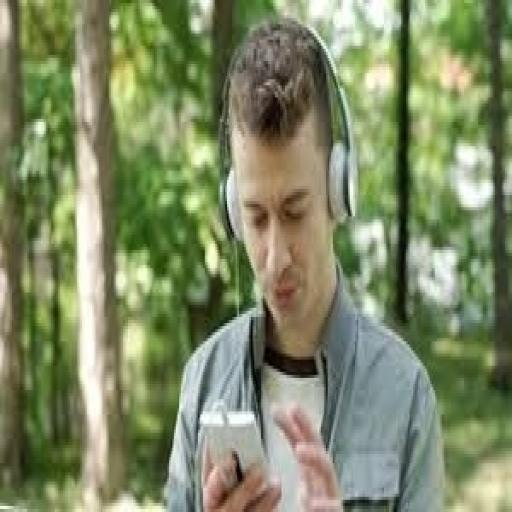listening_to_music: (162, 15, 449, 509)
